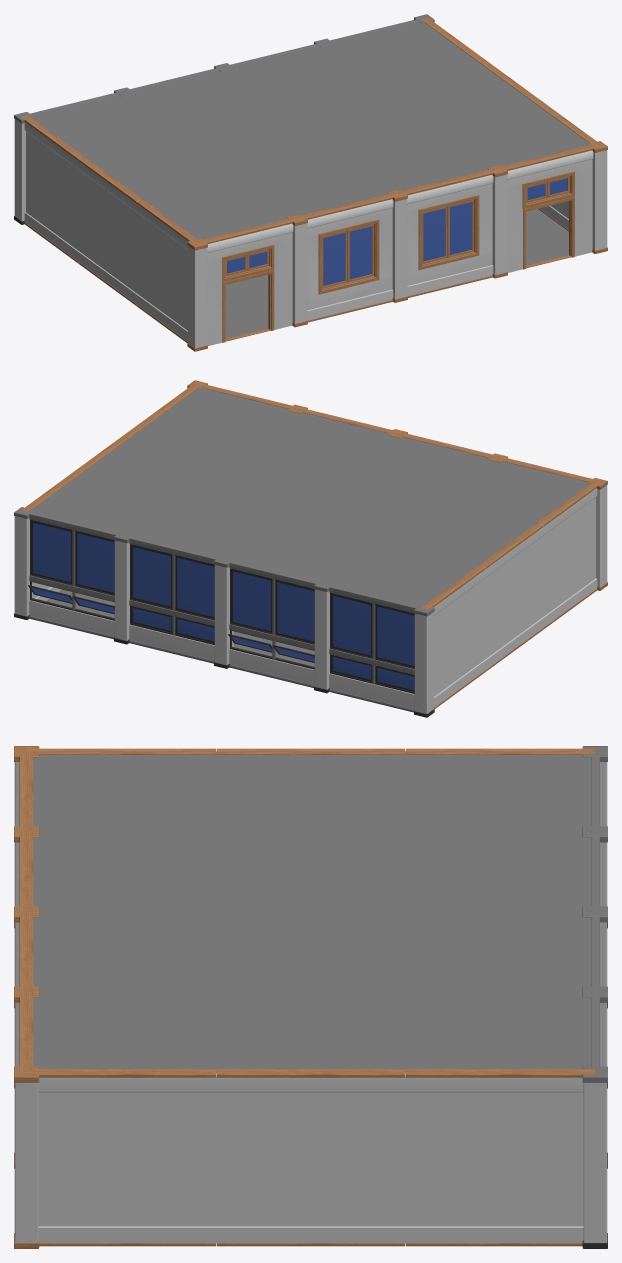
File: SM_classroom_01.fbx
3 renders of one model, top to bottom at view 1: azimuth 30°, elevation 25°; view 2: azimuth 150°, elevation 25°; view 3: azimuth 270°, elevation 25°, orthographic. The views are drawn at different scales.
Parts seen in each view (by area): view 1: Classroom_01; view 2: Classroom_01; view 3: Classroom_01.
Part boxes in pixels (box(x1,y1,x2,y2)): Classroom_01: box(14, 14, 607, 351); Classroom_01: box(14, 380, 607, 717); Classroom_01: box(14, 746, 607, 1248).
Bounding box in the file's own units: 651 × 158 × 493.
